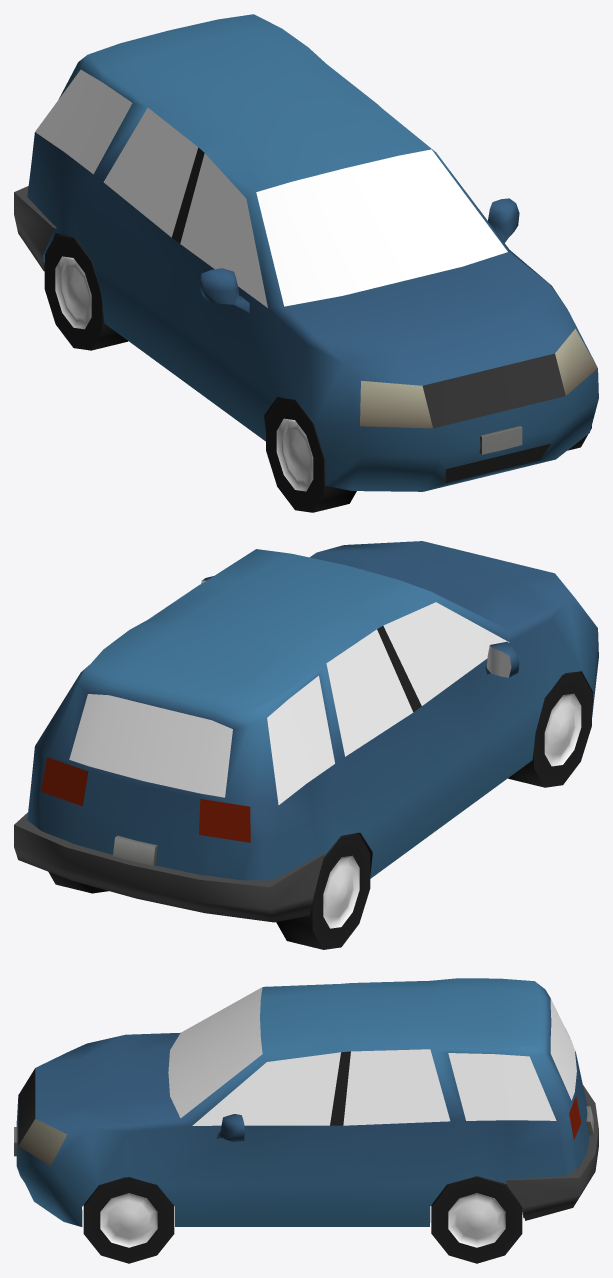
Rendered from vehicles-cars-suv_v1.glb.
3 views of the same model, one above another, from view 1: azimuth 30°, elevation 25°; view 2: azimuth 150°, elevation 25°; view 3: azimuth 270°, elevation 25° (orthographic). The views are drawn at different scales.
Parts seen in each view (by area): view 1: SUV; view 2: SUV; view 3: SUV.
Boxes of the visible parts, x1=… form: SUV: x1=14, y1=14, x2=598, y2=512; SUV: x1=14, y1=541, x2=598, y2=949; SUV: x1=14, y1=978, x2=598, y2=1263.
Size of the model in its own units: 2.35 by 1.87 by 4.8.
